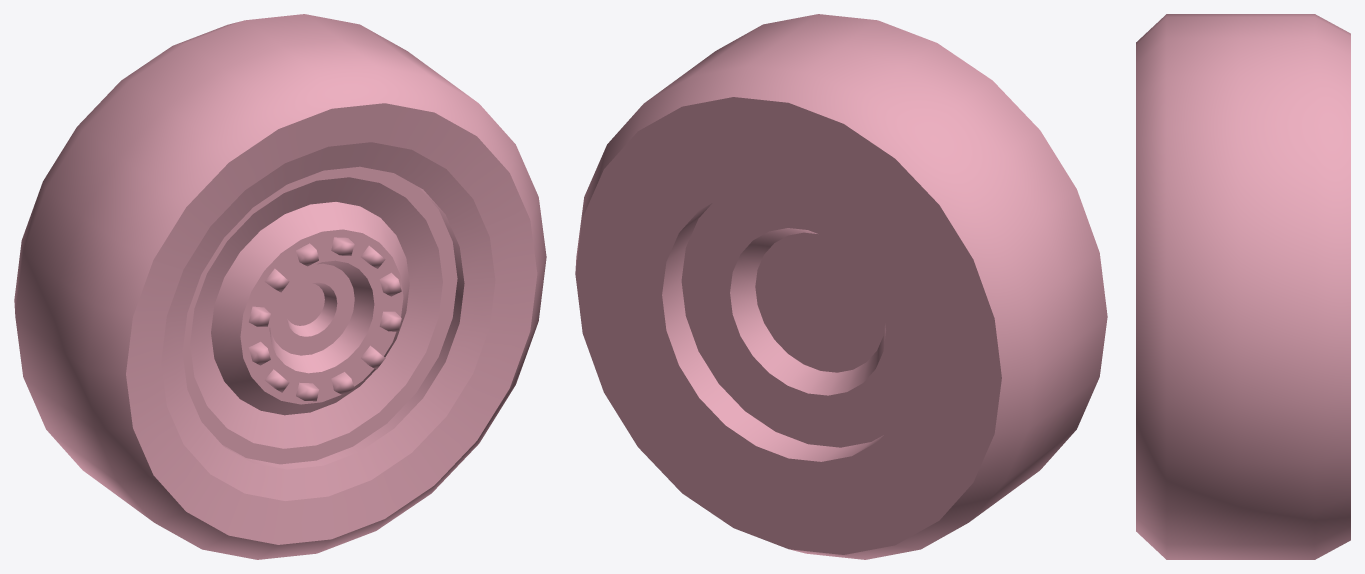
Rendered from Car Tire.fbx.
3 renders of one model, left to right at view 1: azimuth 30°, elevation 25°; view 2: azimuth 150°, elevation 25°; view 3: azimuth 270°, elevation 25°, orthographic. The views are drawn at different scales.
Parts seen in each view (by area): view 1: Car Tire; view 2: Car Tire; view 3: Car Tire.
Boxes of the visible parts, x1,y1,x2,y2 form: Car Tire: (14, 14, 546, 559); Car Tire: (575, 14, 1107, 559); Car Tire: (1136, 14, 1350, 559).
Size of the model in its own units: 97.84 by 97.84 by 38.35.
